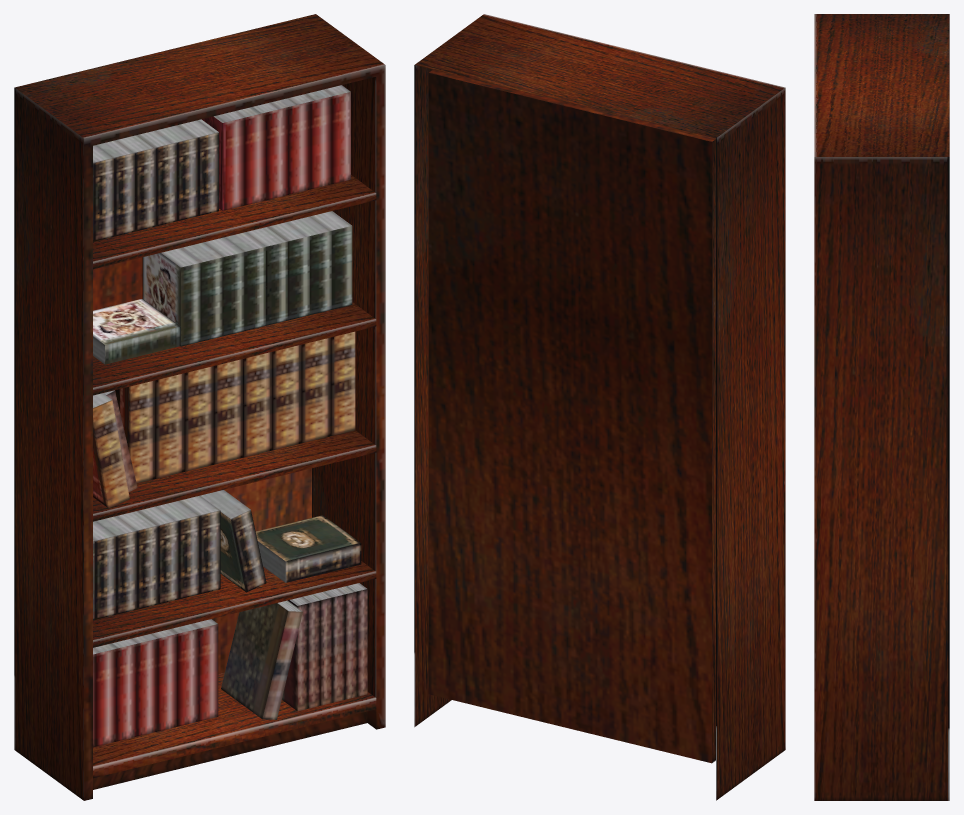
The model's file is lrgwoodbookshelf03.fbx.
The picture shows the model from 3 angles, left to right: view 1: azimuth 30°, elevation 25°; view 2: azimuth 150°, elevation 25°; view 3: azimuth 270°, elevation 25°; orthographic projection. The views are drawn at different scales.
Parts seen in each view (by area): view 1: mesh_0; view 2: mesh_0; view 3: mesh_0.
Boxes of the visible parts, x1,y1,x2,y2 form: mesh_0: [14, 14, 385, 800]; mesh_0: [414, 14, 785, 800]; mesh_0: [814, 14, 949, 800].
Size of the model in its own units: 100 by 210 by 40.
Materials: 1 (1 with a texture image).
